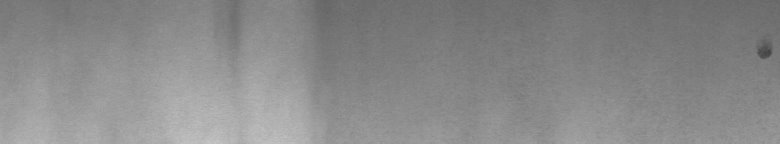fi: (752, 44, 776, 65)
